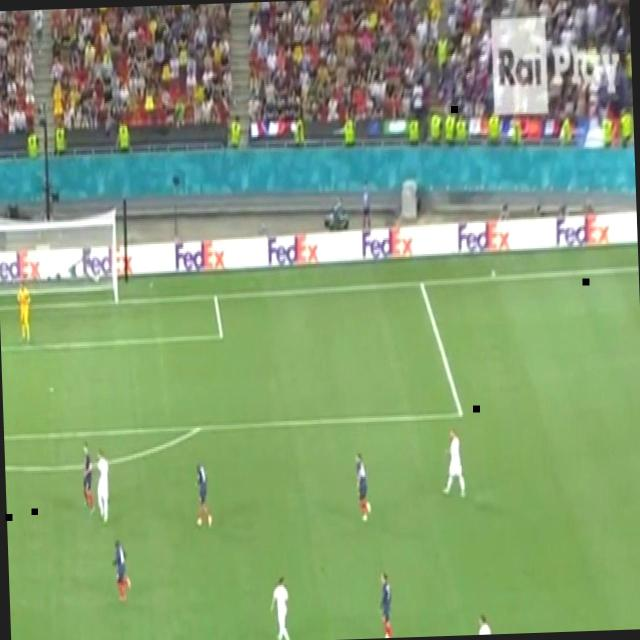player-white: (438, 426, 466, 503), (92, 445, 114, 527), (109, 534, 133, 608), (352, 446, 374, 526), (190, 459, 214, 531), (267, 570, 291, 640), (374, 566, 396, 638), (79, 438, 97, 518), (15, 276, 33, 346), (473, 609, 495, 635)
